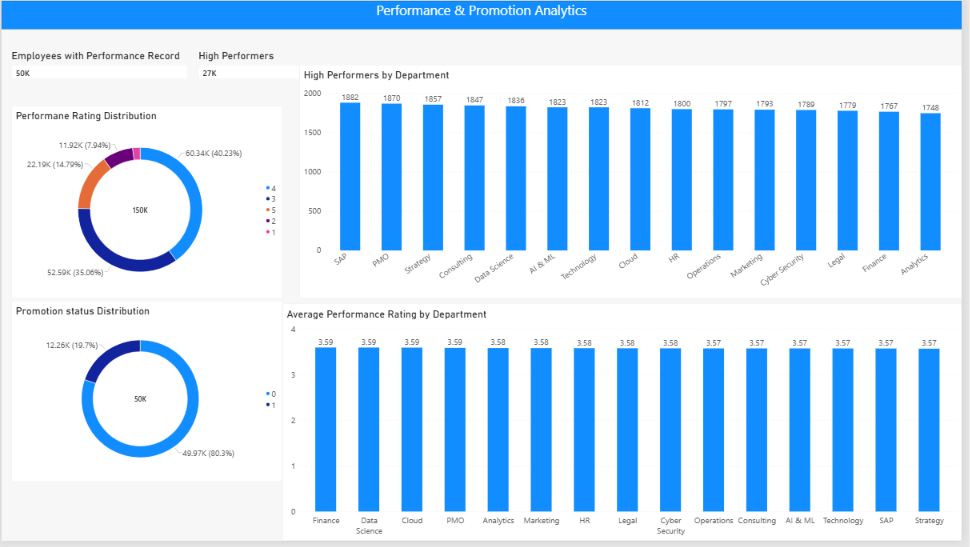

The page's visual inventory and layout, read from the dashboard file:
{"tool":"powerbi","page":{"name":"Performance & Promotion Analytics","canvas":[3840,2160],"ordinal":4},"visuals":[{"type":"shape","box":[0,0,3840,113.3],"z":0},{"type":"textbox","box":[0,0,3840,113.3],"z":1},{"type":"cardVisual","title":"Employees with Performance Record","fields":{"Data":["Count(FactPerformance.EmployeeID)"]},"box":[40,196.7,703.3,116.7],"z":2},{"type":"cardVisual","title":"High Performers","fields":{"Data":["Sum(FactPerformance.HighPerformerFlag)"]},"box":[786.7,196.7,403.3,116.7],"z":3},{"type":"donutChart","title":"Performane Rating Distribution","fields":{"Category":["FactPerformance.PerformanceRating"],"Y":["CountNonNull(FactPerformance.EmployeeID)"]},"box":[40,420,1083.3,770],"z":4},{"type":"donutChart","title":"Promotion status Distribution","fields":{"Category":["FactPerformance.PromotedFlag"],"Y":["Count(FactPerformance.EmployeeID)"]},"box":[40,1200,1083.3,723.3],"z":5},{"type":"clusteredColumnChart","title":"Average Performance Rating by Department","fields":{"Category":["DimDepartment.DepartmentName"],"Y":["Avg(FactPerformance.PerformanceRating)"]},"box":[1123.3,1213.3,2716.7,946.7],"z":6},{"type":"clusteredColumnChart","title":"High Performers by Department","fields":{"Category":["DimDepartment.DepartmentName"],"Y":["Sum(FactPerformance.HighPerformerFlag)"]},"box":[1190,256.7,2650,933.3],"z":7}]}

Visuals, with their boxes in screenshot pixels (x1, y1, x2, y2), scaled from the page's 3840x2160 canvas onto the 970x547 screenshot:
shape: (left=0, top=0, right=969, bottom=29)
textbox: (left=0, top=0, right=969, bottom=29)
"Employees with Performance Record" cardVisual: (left=10, top=50, right=188, bottom=79)
"High Performers" cardVisual: (left=199, top=50, right=301, bottom=79)
"Performane Rating Distribution" donutChart: (left=10, top=106, right=284, bottom=301)
"Promotion status Distribution" donutChart: (left=10, top=304, right=284, bottom=487)
"Average Performance Rating by Department" clusteredColumnChart: (left=284, top=307, right=969, bottom=546)
"High Performers by Department" clusteredColumnChart: (left=301, top=65, right=969, bottom=301)
